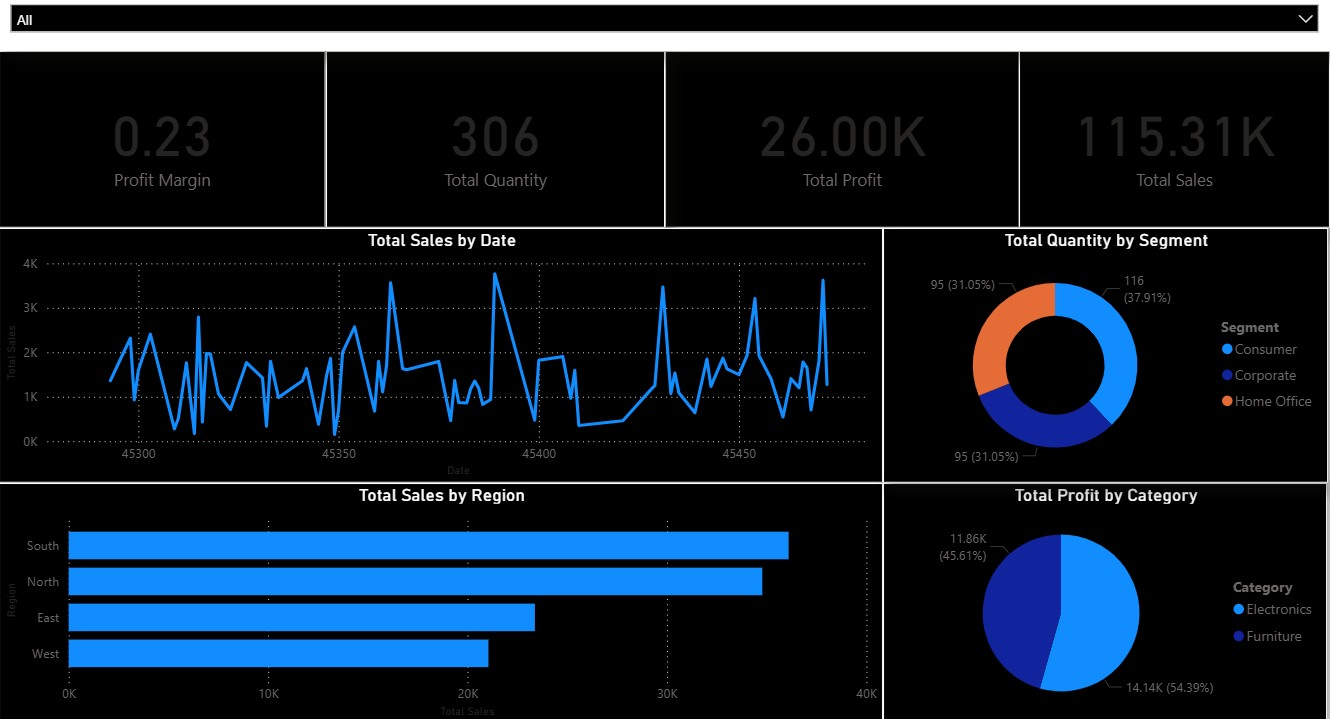

Layout of this report page (visuals, bound fields, positions):
{"tool":"powerbi","page":{"name":"Page 1","canvas":[1280,720],"ordinal":0},"visuals":[{"type":"card","fields":{"Values":["Sheet1.Total Profit"]},"box":[640,74,341,170],"z":0},{"type":"card","fields":{"Values":["Sheet1.Profit Margin"]},"box":[0,74,314,170],"z":1000},{"type":"card","fields":{"Values":["Sheet1.Total Quantity"]},"box":[314,74,326,170],"z":2000},{"type":"card","fields":{"Values":["Sheet1.Total Sales"]},"box":[981,74,299,170],"z":3000},{"type":"lineChart","fields":{"Category":["Sheet1.Date"],"Y":["Sheet1.Total Sales"]},"box":[0,244,850,245],"z":4000},{"type":"barChart","fields":{"Category":["Sheet1.Region"],"Y":["Sheet1.Total Sales"]},"box":[0,489.3,850,231],"z":5000},{"type":"pieChart","fields":{"Category":["Sheet1.Category"],"Y":["Sheet1.Total Profit"]},"box":[850,489.3,427.5,231],"z":6000},{"type":"donutChart","fields":{"Category":["Sheet1.Segment"],"Y":["Sheet1.Total Quantity"]},"box":[850,244,428,245],"z":7000},{"type":"slicer","fields":{"Values":["Sheet1.Region"]},"box":[0,0,1280,74],"z":8001}]}

Visuals, with their boxes in screenshot pixels (x1, y1, x2, y2):
card - Sheet1.Total Profit: bbox=[665, 51, 1014, 225]
card - Sheet1.Profit Margin: bbox=[10, 51, 332, 225]
card - Sheet1.Total Quantity: bbox=[332, 51, 665, 225]
card - Sheet1.Total Sales: bbox=[1014, 51, 1320, 225]
lineChart - Sheet1.Date x Sheet1.Total Sales: bbox=[10, 225, 880, 476]
barChart - Sheet1.Region x Sheet1.Total Sales: bbox=[10, 476, 880, 713]
pieChart - Sheet1.Category x Sheet1.Total Profit: bbox=[880, 476, 1317, 713]
donutChart - Sheet1.Segment x Sheet1.Total Quantity: bbox=[880, 225, 1318, 476]
slicer - Sheet1.Region: bbox=[10, 0, 1320, 51]
